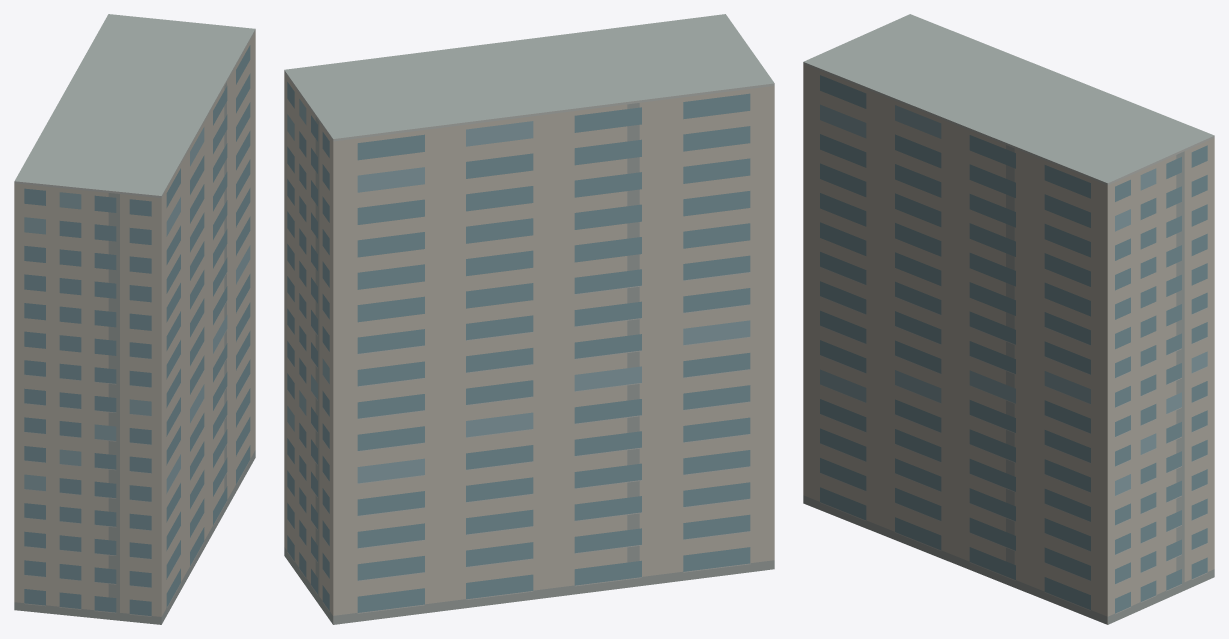
Rendered from residential-39eb739a-fd61-4670-b307-04223721d067.glb.
The picture shows the model from 3 angles, left to right: view 1: azimuth 30°, elevation 25°; view 2: azimuth 150°, elevation 25°; view 3: azimuth 270°, elevation 25°; orthographic projection. The views are drawn at different scales.
Visible parts, largest first — view 1: residential-39eb739a-fd61-4670-b307-04223721d067.tmp; view 2: residential-39eb739a-fd61-4670-b307-04223721d067.tmp; view 3: residential-39eb739a-fd61-4670-b307-04223721d067.tmp.
Boxes of the visible parts, bbox=[...] form: residential-39eb739a-fd61-4670-b307-04223721d067.tmp: bbox=[14, 14, 255, 624]; residential-39eb739a-fd61-4670-b307-04223721d067.tmp: bbox=[284, 14, 774, 624]; residential-39eb739a-fd61-4670-b307-04223721d067.tmp: bbox=[803, 14, 1214, 624].
Bounding box in the file's own units: 40.31 × 49 × 41.39.
